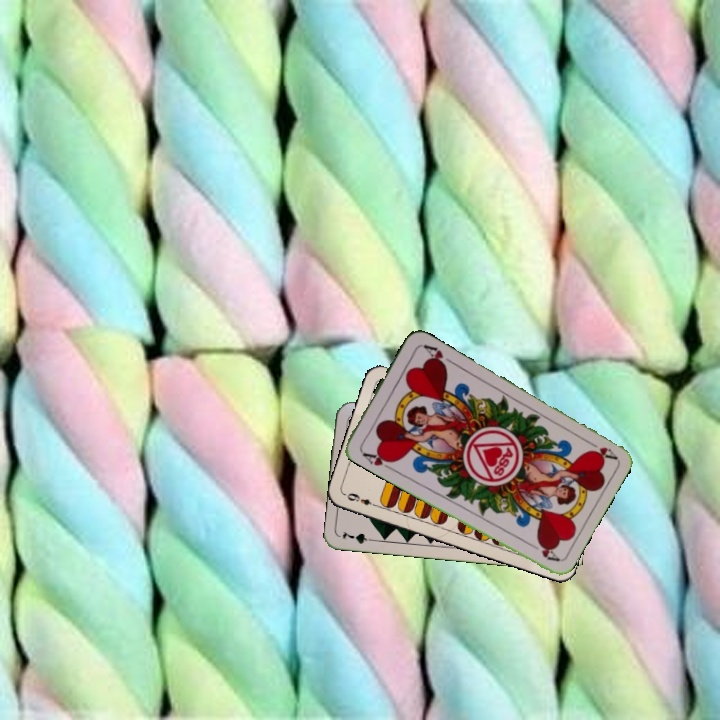E9: (341, 489, 381, 510)
G7: (338, 527, 379, 546)
HA: (357, 447, 397, 472), (581, 436, 618, 462)
